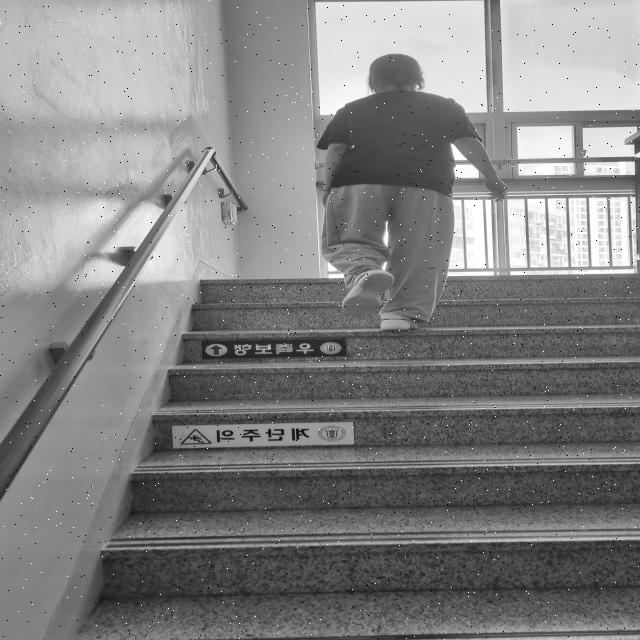logo: (320, 423, 349, 442), (316, 340, 346, 356)
